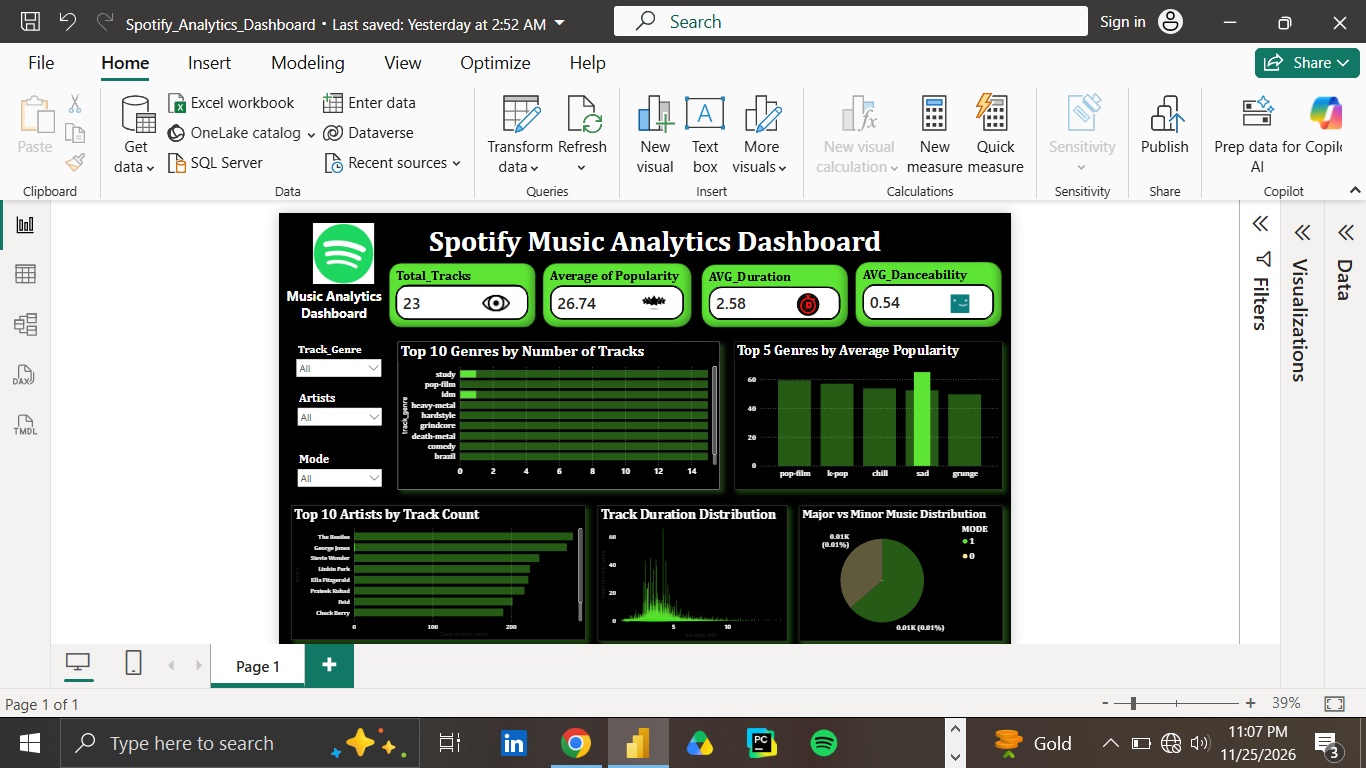

The page's visual inventory and layout, read from the dashboard file:
{"tool":"powerbi","page":{"name":"Page 1","canvas":[1500,900],"ordinal":0},"visuals":[{"type":"textbox","box":[192.6,2.5,1158,101.4],"z":0},{"type":"image","box":[0,20.5,264.1,125.6],"z":1000},{"type":"textbox","box":[0,145.8,225.5,116.2],"z":2000},{"type":"slicer","fields":{"Values":["Spotify_Cleaned.track_genre"]},"box":[25.1,262,193.7,98],"z":3000},{"type":"slicer","fields":{"Values":["Spotify_Cleaned.mode"]},"box":[27.9,484,192.6,111.5],"z":4000},{"type":"slicer","fields":{"Values":["Spotify_Cleaned.artists"]},"box":[27.9,359.8,192.6,114],"z":5000},{"type":"cardVisual","title":"Total_Tracks","fields":{"Data":["CountNonNull(Spotify_Cleaned.track_name)"]},"box":[225.5,102.5,300.7,132.1],"z":6000},{"type":"cardVisual","title":"Average of Popularity","fields":{"Data":["Avg(Spotify_Cleaned.popularity)"]},"box":[542.2,102.5,305.3,132.1],"z":7000},{"type":"cardVisual","title":"AVG_Duration","fields":{"Data":["Avg(Spotify_Cleaned.duration_min)"]},"box":[865.7,104.8,300.7,129.9],"z":8000},{"type":"cardVisual","title":"AVG_Danceability","fields":{"Data":["Avg(Spotify_Cleaned.danceability)"]},"box":[1182.4,100.2,300.7,134.4],"z":9000},{"type":"image","box":[293.9,157.2,300.7,57],"z":10000},{"type":"image","box":[1351,166.3,91.1,38.7],"z":11000},{"type":"image","box":[694.9,150.4,148.1,63.8],"z":12000},{"type":"image","box":[1038.9,150.4,93.4,72.9],"z":13000},{"type":"clusteredBarChart","title":"Top 10 Genres by Number of Tracks","fields":{"Category":["Spotify_Cleaned.track_genre"],"Y":["CountNonNull(Spotify_Cleaned.track_name)"]},"box":[244.7,263.1,660.7,302.8],"z":14000},{"type":"clusteredColumnChart","title":"Top 5 Genres by Average Popularity","fields":{"Category":["Spotify_Cleaned.track_genre"],"Y":["Avg(Spotify_Cleaned.popularity)"]},"box":[932.9,263.1,550.6,302.8],"z":15000},{"type":"clusteredBarChart","title":"Top 10 Artists by Track Count","fields":{"Category":["Spotify_Cleaned.artists"],"Y":["CountNonNull(Spotify_Cleaned.track_name)"]},"box":[25.3,600.5,603.1,276.2],"z":16000},{"type":"clusteredColumnChart","title":"Track Duration Distribution","fields":{"Category":["Spotify_Cleaned.duration_min"],"Y":["CountNonNull(Spotify_Cleaned.track_name)"]},"box":[654.6,599.5,388.5,278.3],"z":17000},{"type":"pieChart","title":"Major vs Minor Music Distribution","fields":{"Category":["Spotify_Cleaned.mode"],"Y":["CountNonNull(Spotify_Cleaned.track_name)"]},"box":[1066.8,600.5,418.1,278.7],"z":18000}]}

Visuals, with their boxes on the page's 1500x900 design canvas (x1, y1, x2, y2). These are canvas units, not pixel positions in the 1366x768 screenshot, which may show the page scaled, cropped or inside an application window:
textbox: pyautogui.locateOnScreen(193, 2, 1351, 104)
image: pyautogui.locateOnScreen(0, 20, 264, 146)
textbox: pyautogui.locateOnScreen(0, 146, 226, 262)
slicer - Spotify_Cleaned.track_genre: pyautogui.locateOnScreen(25, 262, 219, 360)
slicer - Spotify_Cleaned.mode: pyautogui.locateOnScreen(28, 484, 220, 596)
slicer - Spotify_Cleaned.artists: pyautogui.locateOnScreen(28, 360, 220, 474)
"Total_Tracks" cardVisual: pyautogui.locateOnScreen(226, 102, 526, 235)
"Average of Popularity" cardVisual: pyautogui.locateOnScreen(542, 102, 848, 235)
"AVG_Duration" cardVisual: pyautogui.locateOnScreen(866, 105, 1166, 235)
"AVG_Danceability" cardVisual: pyautogui.locateOnScreen(1182, 100, 1483, 235)
image: pyautogui.locateOnScreen(294, 157, 595, 214)
image: pyautogui.locateOnScreen(1351, 166, 1442, 205)
image: pyautogui.locateOnScreen(695, 150, 843, 214)
image: pyautogui.locateOnScreen(1039, 150, 1132, 223)
"Top 10 Genres by Number of Tracks" clusteredBarChart: pyautogui.locateOnScreen(245, 263, 905, 566)
"Top 5 Genres by Average Popularity" clusteredColumnChart: pyautogui.locateOnScreen(933, 263, 1484, 566)
"Top 10 Artists by Track Count" clusteredBarChart: pyautogui.locateOnScreen(25, 600, 628, 877)
"Track Duration Distribution" clusteredColumnChart: pyautogui.locateOnScreen(655, 600, 1043, 878)
"Major vs Minor Music Distribution" pieChart: pyautogui.locateOnScreen(1067, 600, 1485, 879)
